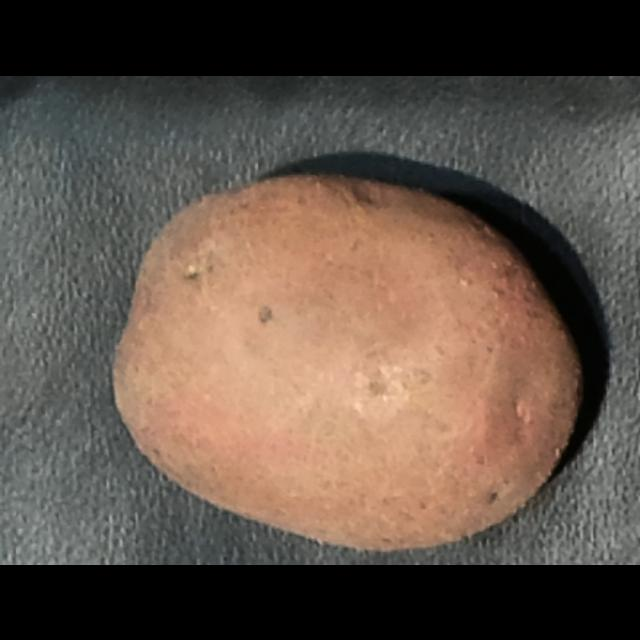Diseased-fungal potato: (102, 164, 640, 564)
